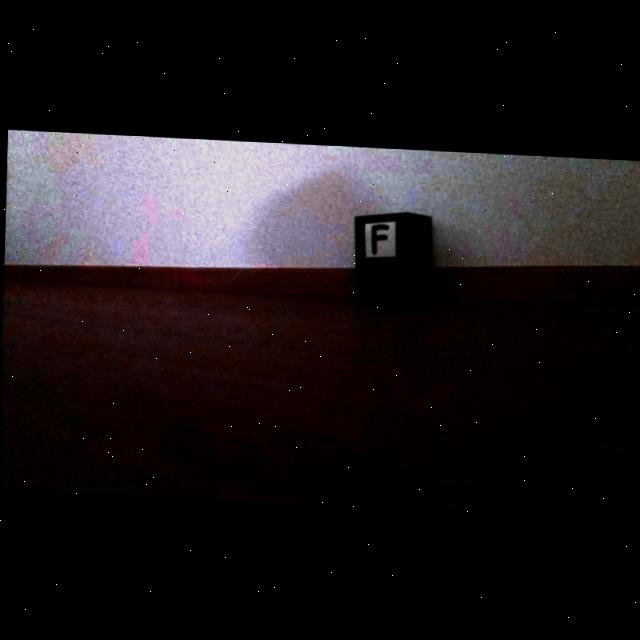F: (370, 223, 388, 253)
